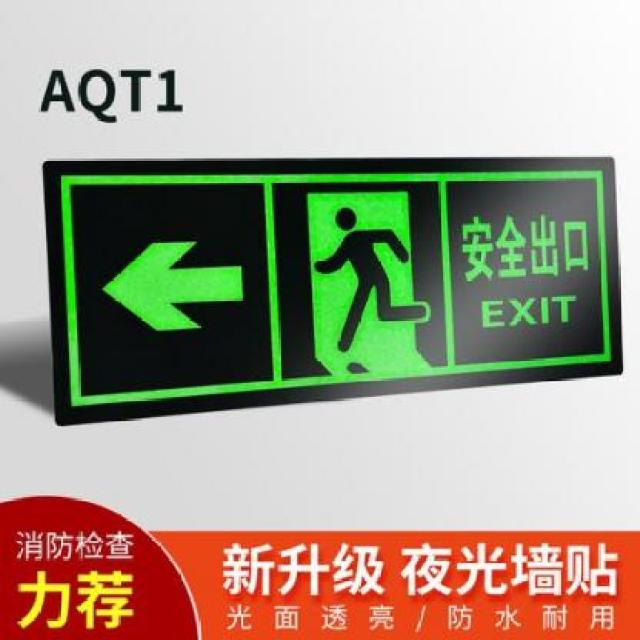exit_sign: (42, 152, 630, 402)
